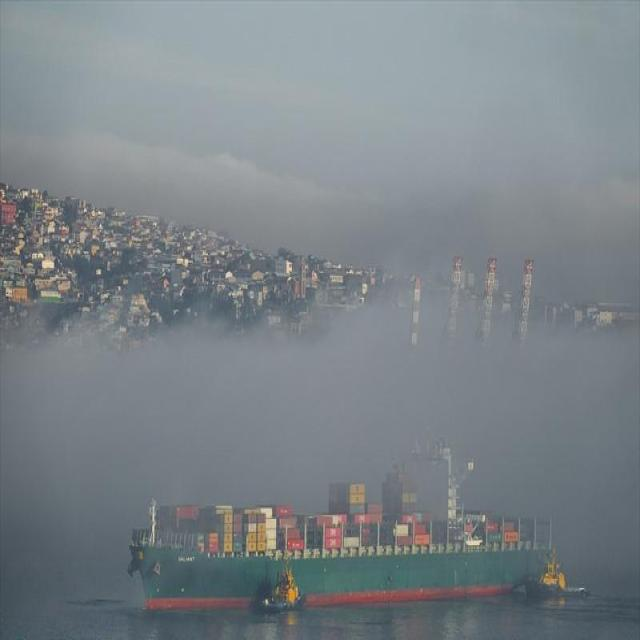cargoship: (130, 430, 562, 614)
houseboat: (521, 543, 592, 602), (252, 558, 302, 613)
